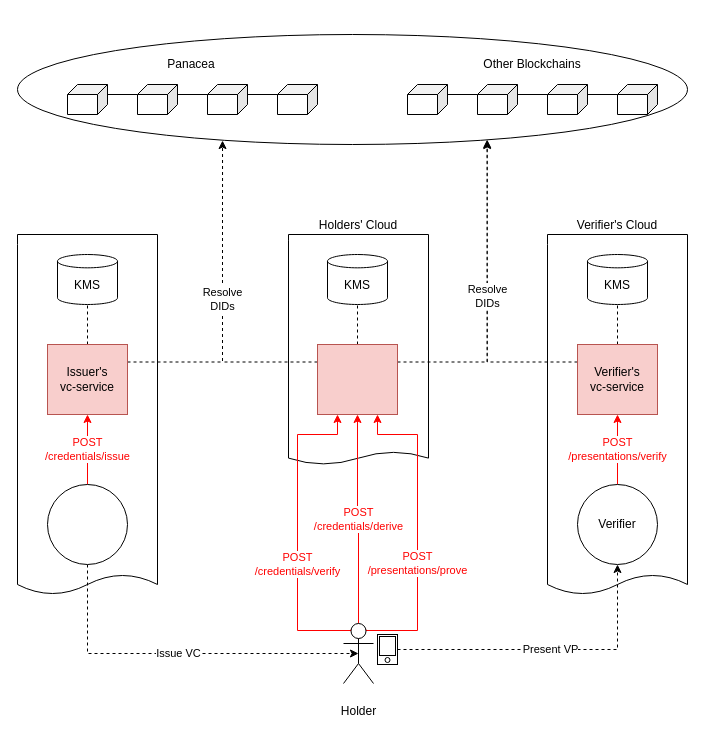
The diagram is 705 pixels wide and 737 high, and some of its shapes have lost their labels. Here are the shapes that lost their labels. From the top down, the box of each, then its label:
(16, 34, 688, 144): Verifiable Data Registry (DID store)
(316, 344, 398, 414): Holders' vc-service
(16, 234, 158, 594): Issuer's Cloud
(46, 484, 128, 564): Issuer
